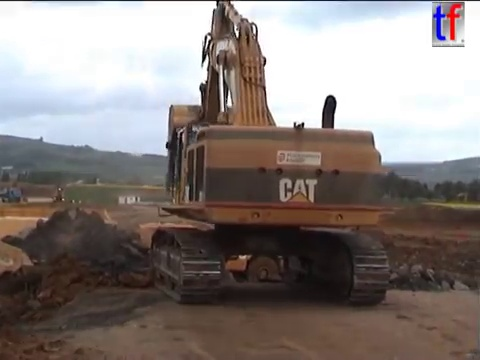excavator: (145, 1, 399, 309)
truck: (1, 206, 156, 321), (222, 215, 362, 291), (128, 218, 217, 291)
